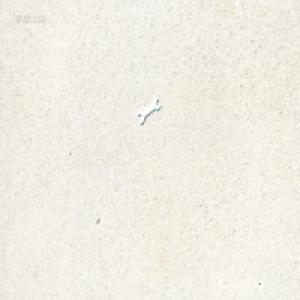Wrench: (137, 97, 160, 125)
